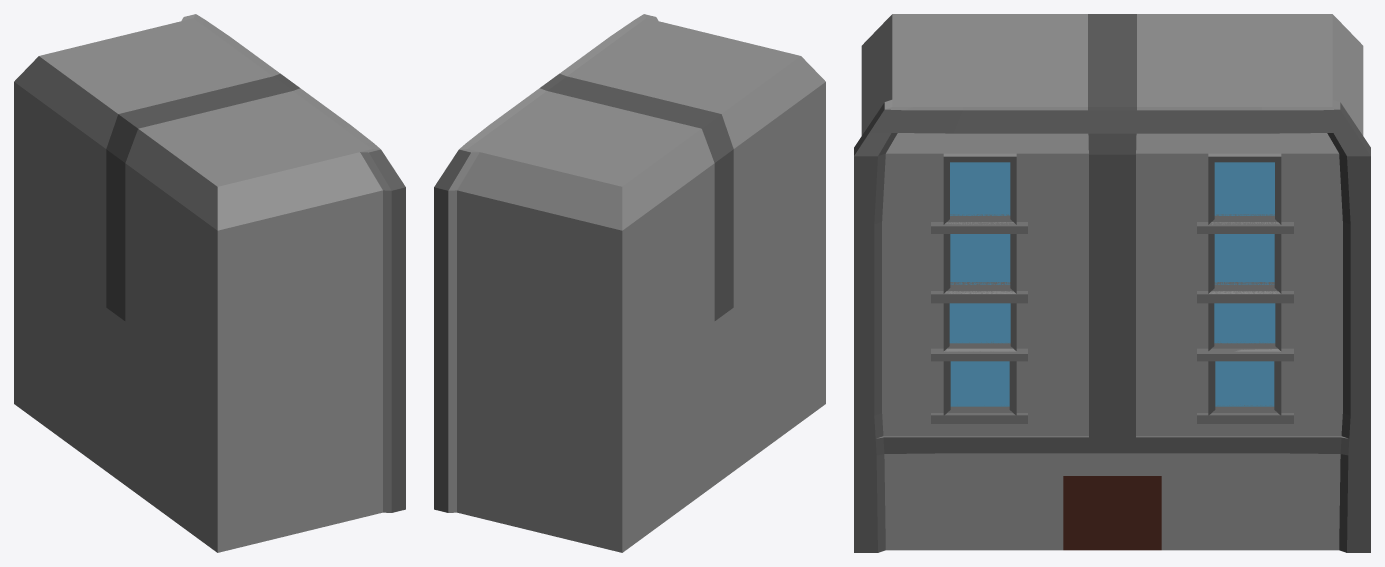
Rendered from short building.fbx.
3 renders of one model, left to right at view 1: azimuth 30°, elevation 25°; view 2: azimuth 150°, elevation 25°; view 3: azimuth 270°, elevation 25°, orthographic. The views are drawn at different scales.
Parts seen in each view (by area): view 1: Cube; view 2: Cube; view 3: Cube.
Boxes of the visible parts, x1,y1,x2,y2 form: Cube: (14,14,405,552); Cube: (434,14,825,552); Cube: (854,14,1370,552).
Bounding box in the file's own units: 3724 × 6291 × 6744.
